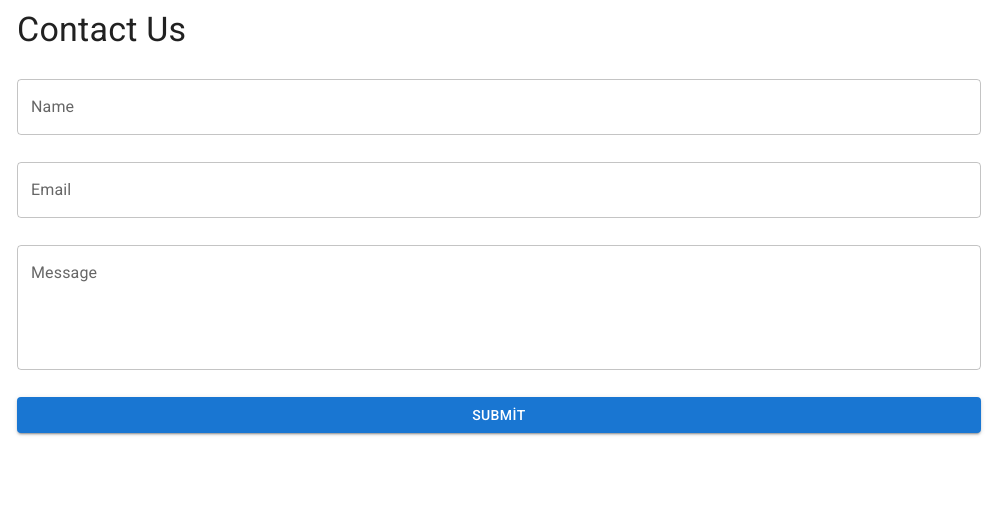
Test case: ContactForm › validates the form and displays errors
Click the button "Submit": (499, 415) [17,397,981,433]
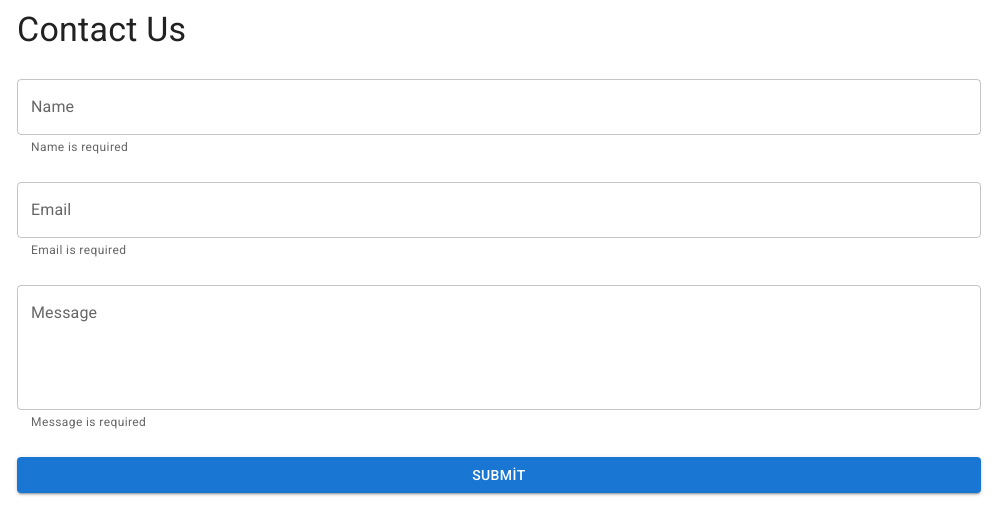
Now the text "Name is required" is shown, box [31,140,128,154]
Now the text "Email is required" is shown, box [31,243,126,257]
Now the text "Message is required" is shown, box [31,415,146,429]
